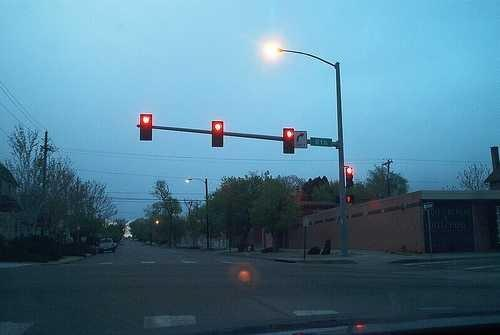red: (210, 120, 224, 148), (140, 115, 154, 142), (283, 127, 297, 152), (341, 165, 354, 185)
